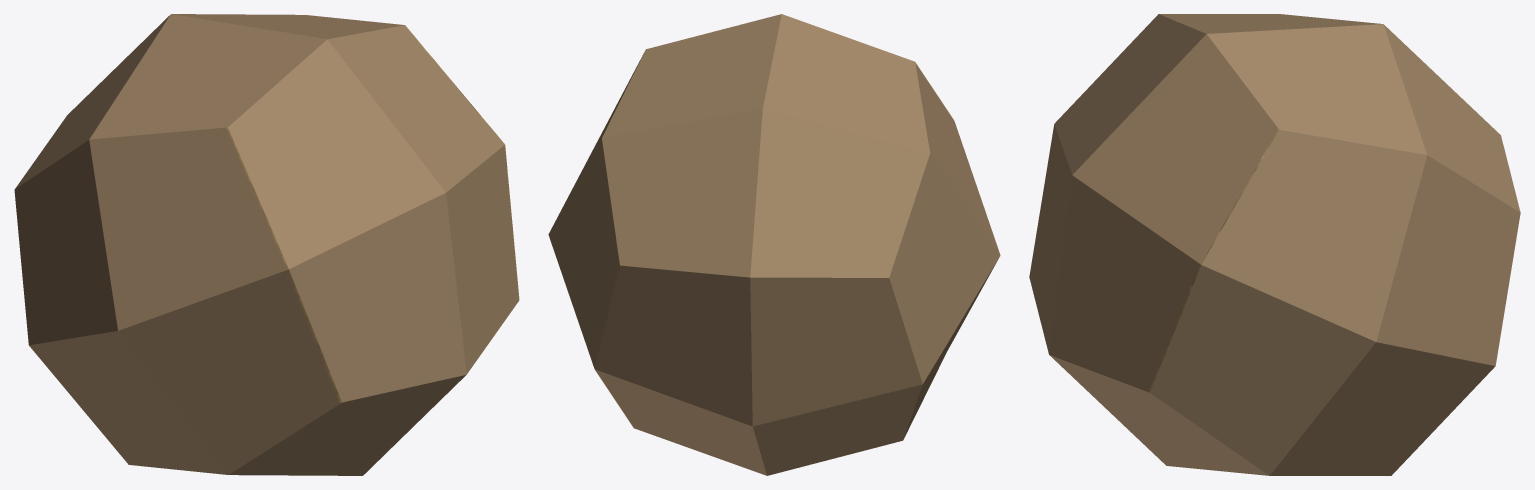
File: OreChunk.fbx
3 renders of one model, left to right at view 1: azimuth 30°, elevation 25°; view 2: azimuth 150°, elevation 25°; view 3: azimuth 270°, elevation 25°, orthographic. The views are drawn at different scales.
Parts seen in each view (by area): view 1: Orechunk; view 2: Orechunk; view 3: Orechunk.
Part boxes in pixels (x1=…): Orechunk: x1=14, y1=14, x2=519, y2=475; Orechunk: x1=548, y1=14, x2=1000, y2=475; Orechunk: x1=1029, y1=14, x2=1520, y2=475.
Bounding box in the file's own units: 28.1 × 29.94 × 29.79.
